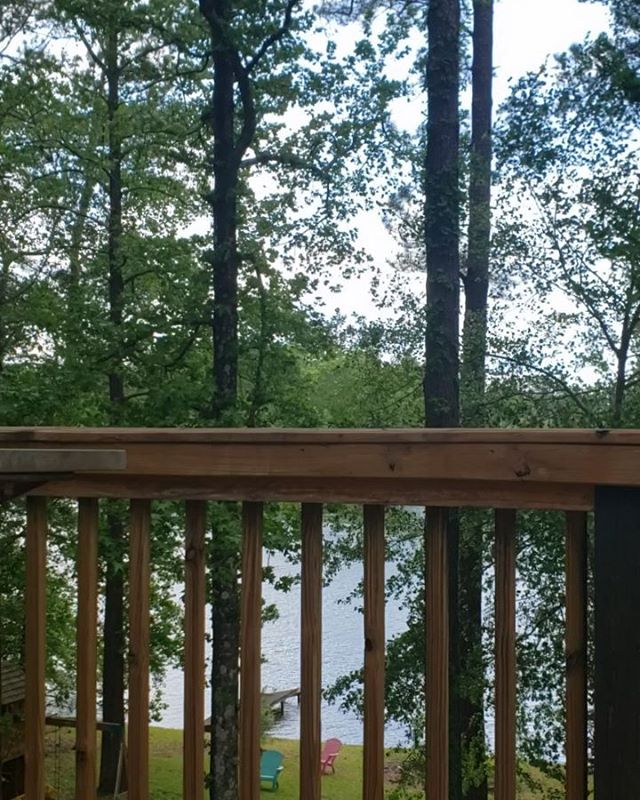vegetation: (1, 1, 640, 422)
